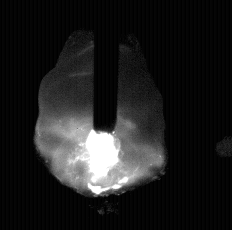arame: (93, 0, 119, 133)
poca: (33, 0, 164, 230)
